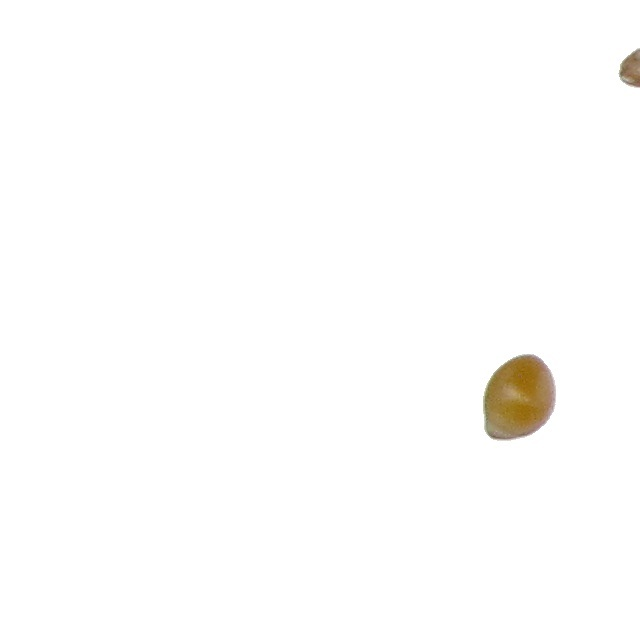mais: (482, 353, 557, 442)
other: (617, 42, 640, 90)
